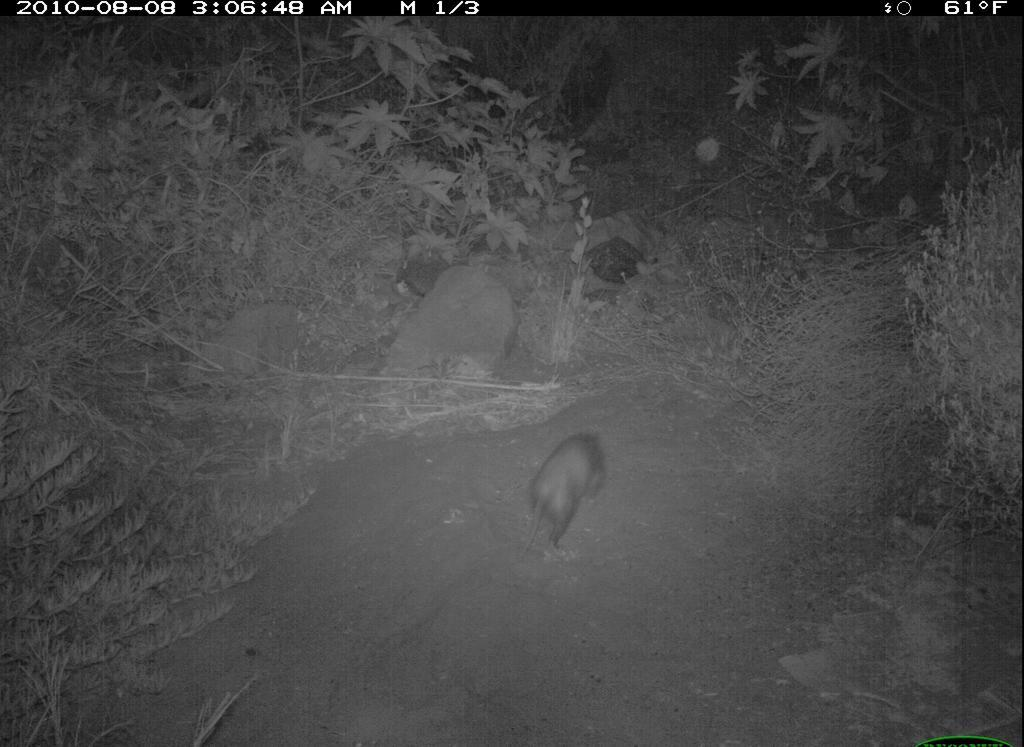opossum: (519, 423, 611, 574)
